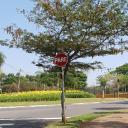Pare: (52, 52, 70, 66)
